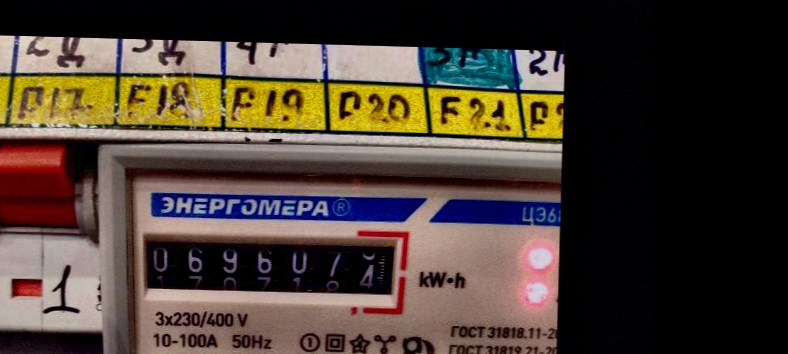0: (287, 247, 307, 277), (148, 246, 167, 275)
4: (355, 264, 372, 292)
6: (183, 246, 203, 275), (252, 248, 272, 277)
7: (323, 250, 341, 280)
9: (218, 248, 236, 276)
screen: (125, 218, 412, 315)
